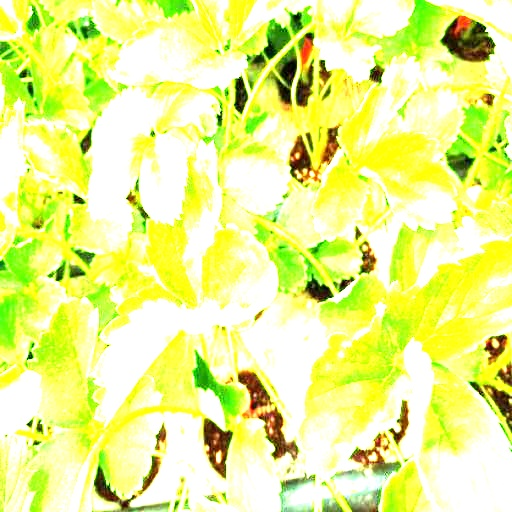Powdery Mildew Leaf: (297, 290, 411, 482), (403, 336, 511, 511), (387, 232, 511, 362), (143, 139, 223, 310), (91, 281, 183, 428), (182, 223, 279, 334), (356, 129, 458, 232), (336, 52, 420, 168), (310, 148, 371, 242)
